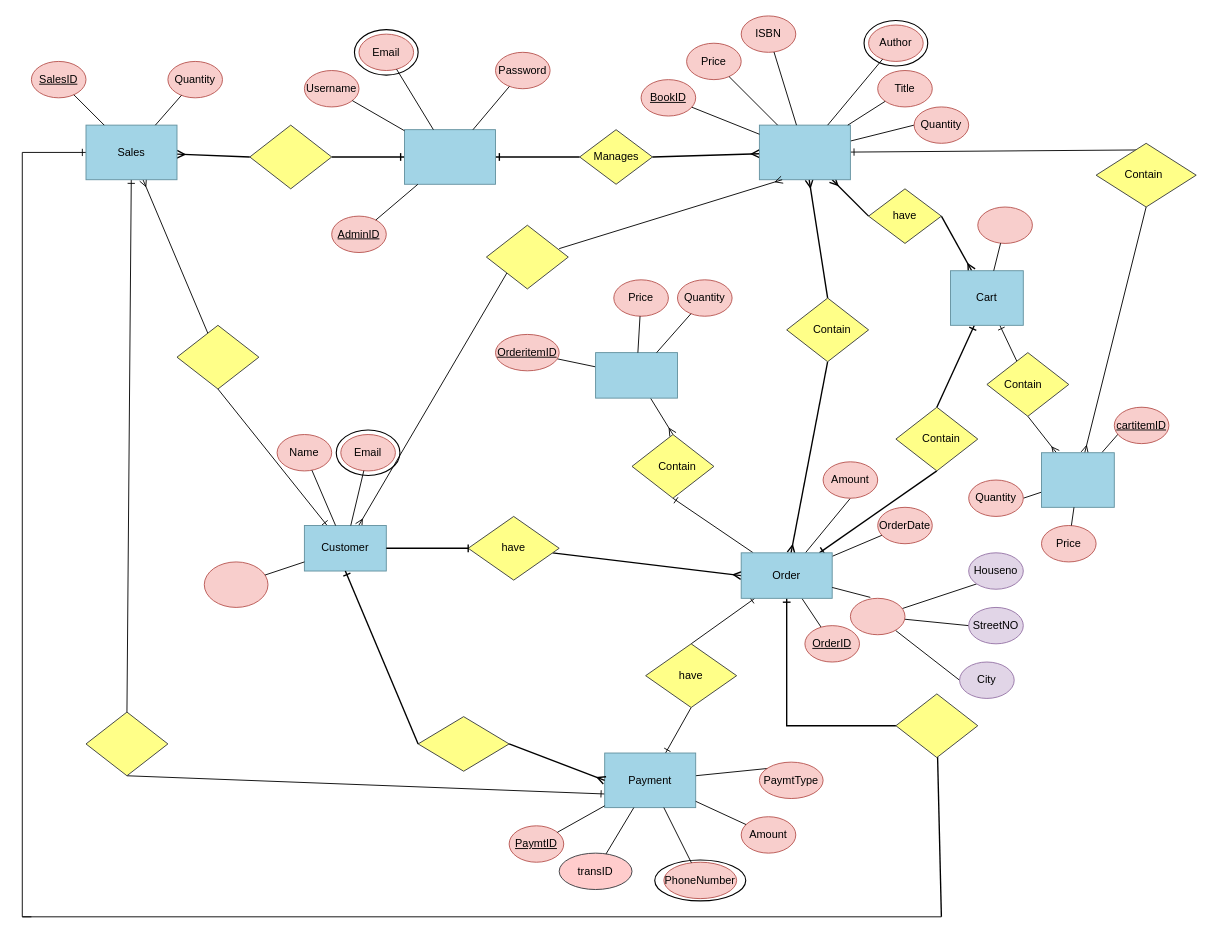
This 1212x940 diagram has some shape labels left out. Here are the shapes that lost their labels. From the top down, the centre of each, then its label:
(290,156): Oversees
(449,156): Admin
(804,152): Book
(1004,224): CartID
(526,256): Purchase
(217,356): MadeBy
(636,375): OrderItem
(1077,479): CartItem
(235,584): CustomerID
(877,616): Address
(126,743): PaidWIth
(463,743): Makes
(936,725): Fulfills
